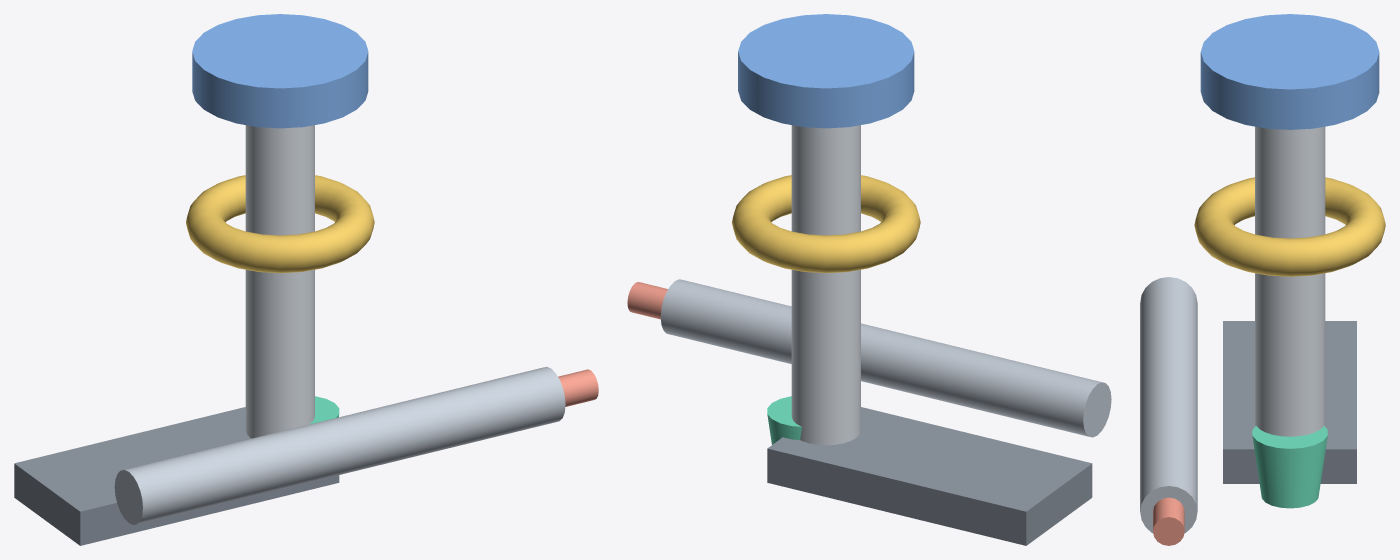
File: mech-suspension.glb
3 renders of one model, left to right at view 1: azimuth 30°, elevation 25°; view 2: azimuth 150°, elevation 25°; view 3: azimuth 270°, elevation 25°, orthographic.
Parts seen in each view (by area): view 1: part_steering_rack, part_shock_absorber, part_strut_top_mount, part_control_arm, part_coil_spring, part_tie_rod; view 2: part_control_arm, part_steering_rack, part_shock_absorber, part_strut_top_mount, part_coil_spring, part_ball_joint, part_tie_rod; view 3: part_shock_absorber, part_strut_top_mount, part_steering_rack, part_coil_spring, part_control_arm, part_ball_joint, part_tie_rod.
Part boxes in pixels (bbox=[...]): part_steering_rack: bbox=[114, 367, 565, 524]; part_shock_absorber: bbox=[245, 125, 314, 438]; part_strut_top_mount: bbox=[192, 14, 368, 128]; part_control_arm: bbox=[14, 407, 339, 545]; part_coil_spring: bbox=[186, 175, 374, 273]; part_tie_rod: bbox=[558, 369, 598, 406]; part_control_arm: bbox=[767, 407, 1092, 545]; part_steering_rack: bbox=[660, 279, 1111, 437]; part_shock_absorber: bbox=[791, 125, 860, 445]; part_strut_top_mount: bbox=[738, 14, 914, 128]; part_coil_spring: bbox=[732, 175, 920, 273]; part_ball_joint: bbox=[767, 396, 801, 444]; part_tie_rod: bbox=[627, 282, 667, 319]; part_shock_absorber: bbox=[1255, 126, 1325, 436]; part_strut_top_mount: bbox=[1200, 14, 1379, 129]; part_steering_rack: bbox=[1140, 277, 1197, 533]; part_coil_spring: bbox=[1194, 177, 1385, 276]; part_control_arm: bbox=[1223, 321, 1356, 483]; part_ball_joint: bbox=[1252, 426, 1327, 508]; part_tie_rod: bbox=[1153, 497, 1184, 545].
Bounding box in the file's own units: 1.77 × 1.5 × 0.77.
